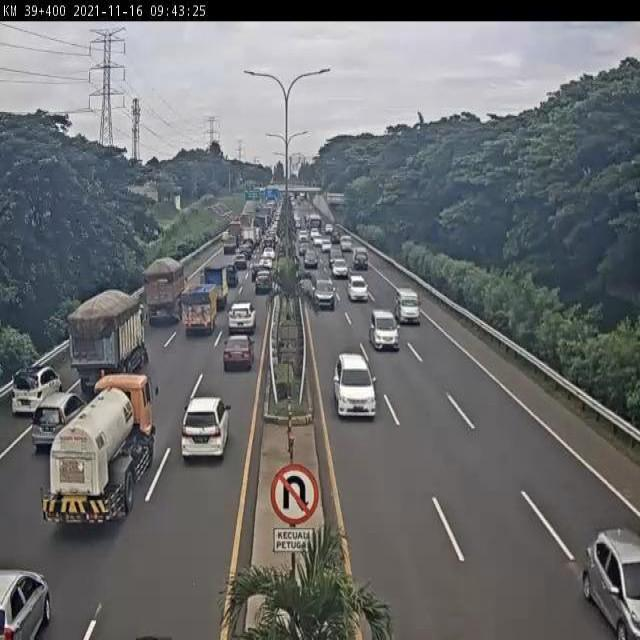car: (568, 513, 640, 640), (323, 341, 391, 432), (0, 558, 71, 640), (180, 389, 233, 472), (0, 356, 65, 417), (32, 399, 69, 460), (369, 305, 405, 364), (217, 327, 259, 376), (223, 299, 268, 344), (392, 285, 429, 336), (343, 269, 376, 312), (305, 280, 343, 315), (198, 264, 230, 305), (253, 269, 272, 307), (332, 253, 351, 283), (303, 244, 323, 272), (220, 231, 241, 257), (250, 254, 270, 278), (222, 264, 238, 291), (340, 230, 355, 254), (320, 237, 335, 256), (234, 256, 246, 272)
small truck: (181, 282, 224, 338), (351, 245, 373, 275)
truck-m-: (35, 370, 162, 538), (64, 291, 147, 393), (142, 253, 186, 329)
